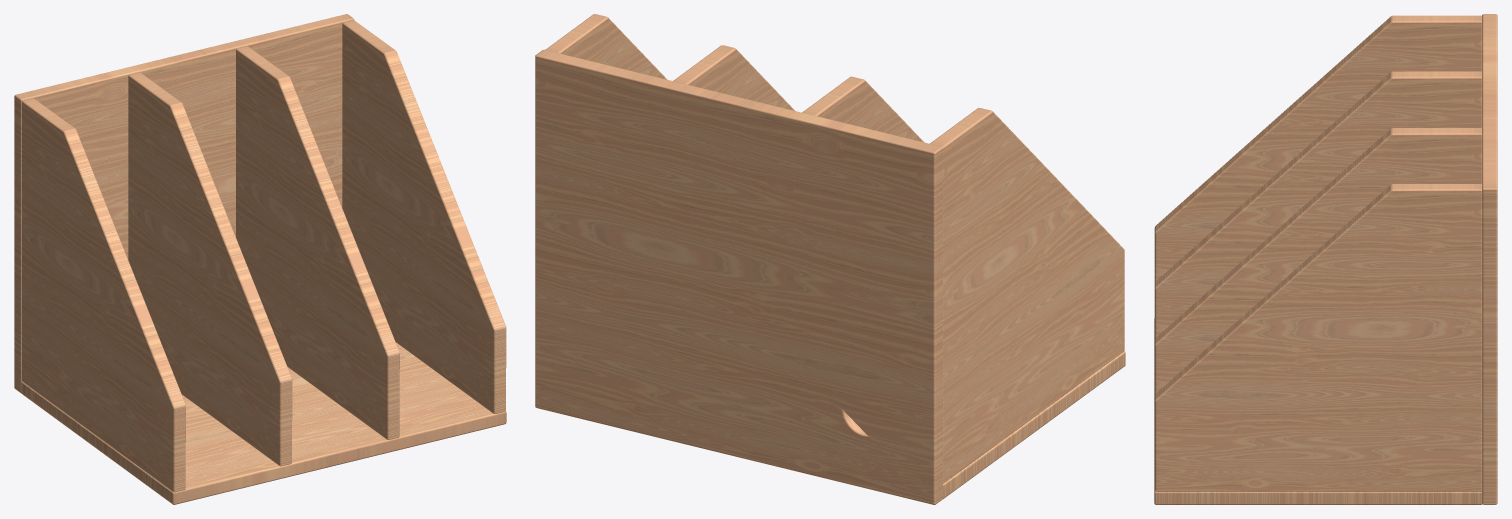
The model's file is folder stand.fbx.
3 renders of one model, left to right at view 1: azimuth 30°, elevation 25°; view 2: azimuth 150°, elevation 25°; view 3: azimuth 270°, elevation 25°, orthographic. The views are drawn at different scales.
Parts seen in each view (by area): view 1: Plane.003, Plane.005, Plane.002, Plane.004, Plane.001, Plane; view 2: Plane.001, Plane.003, Plane.004, Plane.005, Plane.002, Plane; view 3: Plane.002, Plane.004, Plane.003, Plane.005, Plane.001, Plane.
Part boxes in pixels (<box>): Plane.003: <box>22,98,185,492</box>; Plane.005: <box>236,46,399,439</box>; Plane.002: <box>342,20,506,413</box>; Plane.004: <box>128,72,292,466</box>; Plane.001: <box>14,14,354,392</box>; Plane: <box>21,342,506,504</box>; Plane.001: <box>535,49,942,504</box>; Plane.003: <box>930,108,1124,483</box>; Plane.004: <box>802,76,924,142</box>; Plane.005: <box>673,45,794,110</box>; Plane.002: <box>545,14,666,79</box>; Plane: <box>943,351,1125,498</box>; Plane.002: <box>1154,184,1482,491</box>; Plane.004: <box>1154,71,1481,339</box>; Plane.003: <box>1154,15,1481,282</box>; Plane.005: <box>1154,128,1481,395</box>; Plane.001: <box>1482,14,1497,504</box>; Plane: <box>1154,318,1482,504</box>.
Bounding box in the file's own units: 27.95 × 23.56 × 23.12.
Materials: 5 (5 with a texture image).
